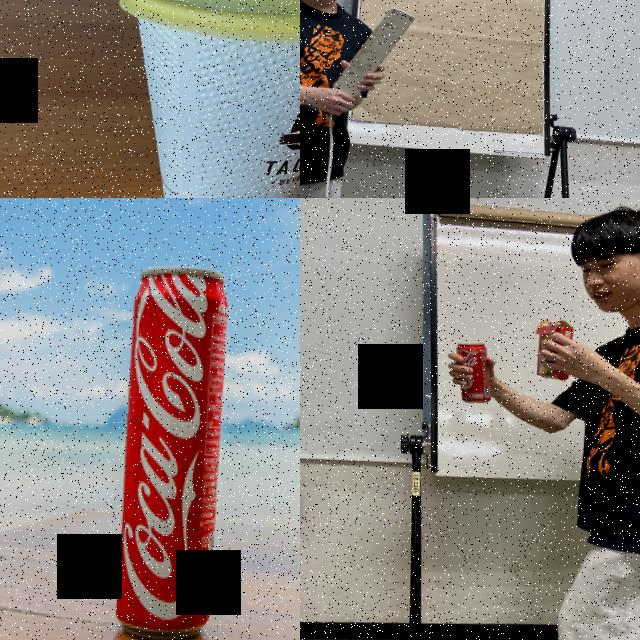can: (108, 263, 234, 640), (452, 340, 496, 404)
cup: (101, 0, 300, 198)
